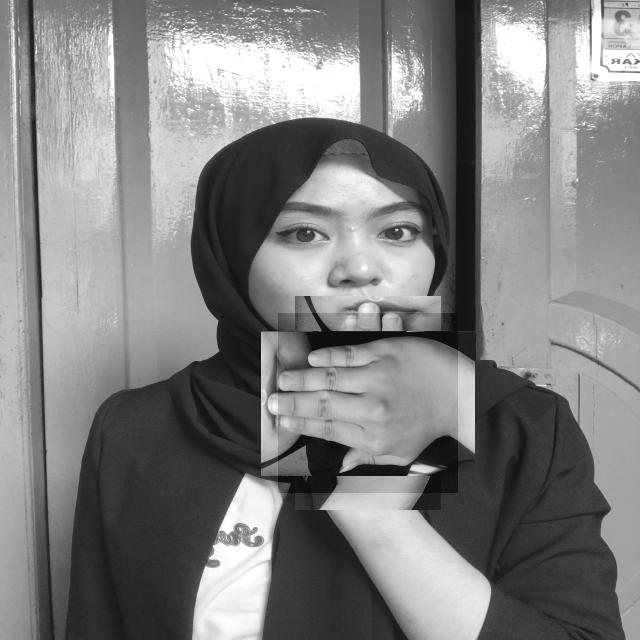ganteng: (278, 313, 458, 493)
